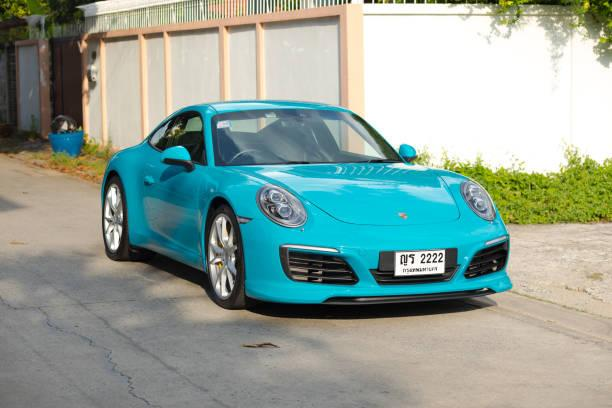porsche: (395, 210, 412, 222)
